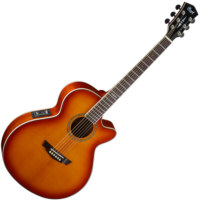guitar: (1, 1, 199, 200)
